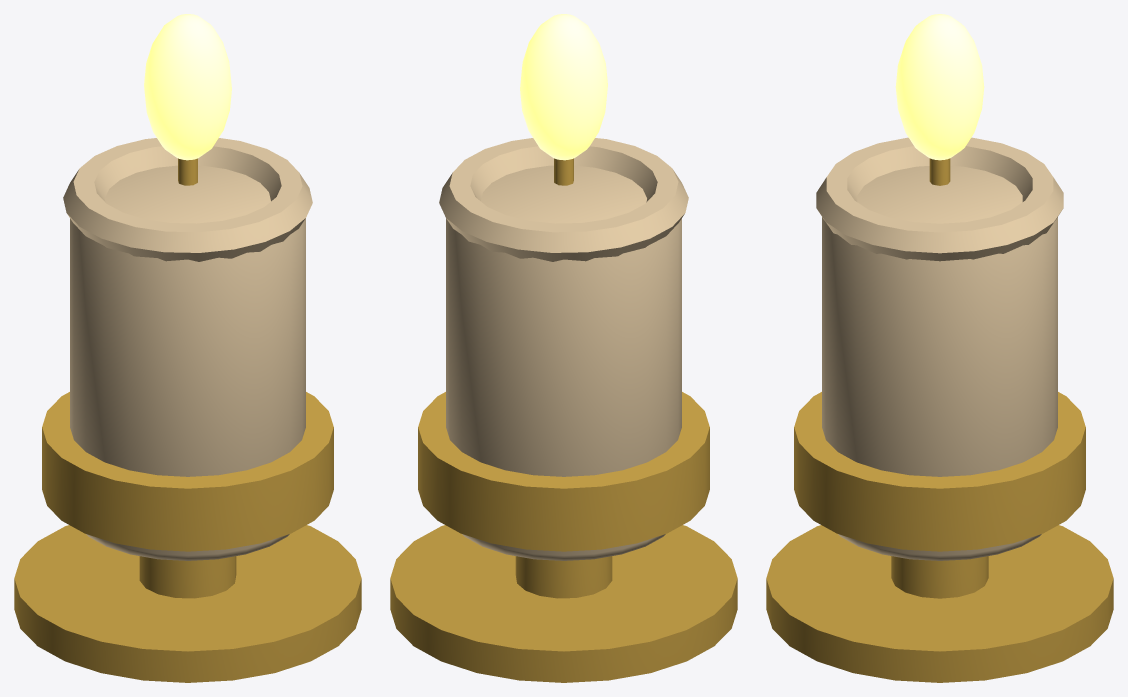
The model's file is zone_library_candle.glb.
3 renders of one model, left to right at view 1: azimuth 30°, elevation 25°; view 2: azimuth 150°, elevation 25°; view 3: azimuth 270°, elevation 25°, orthographic.
Visible parts, largest first — view 1: zone_library_candle; view 2: zone_library_candle; view 3: zone_library_candle.
Part boxes in pixels (x1=…): zone_library_candle: x1=14, y1=14, x2=361, y2=682; zone_library_candle: x1=390, y1=14, x2=737, y2=682; zone_library_candle: x1=766, y1=14, x2=1113, y2=682.
Bounding box in the file's own units: 1 × 1.88 × 1.
